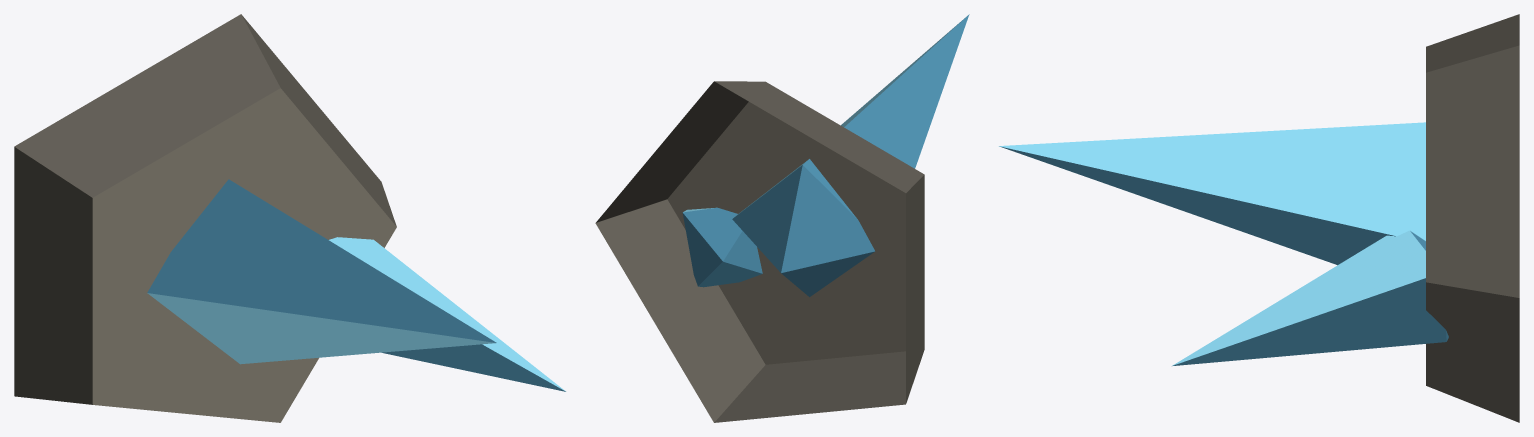
File: crystal_a.obj
The picture shows the model from 3 angles, left to right: view 1: azimuth 30°, elevation 25°; view 2: azimuth 150°, elevation 25°; view 3: azimuth 270°, elevation 25°; orthographic projection. The views are drawn at different scales.
Parts seen in each view (by area): view 1: crystal_a; view 2: crystal_a; view 3: crystal_a.
Part boxes in pixels (<box>): crystal_a: <box>14,14,565,422</box>; crystal_a: <box>595,14,969,422</box>; crystal_a: <box>998,14,1519,422</box>.
Bounding box in the file's own units: 1.27 × 1.33 × 1.67.
